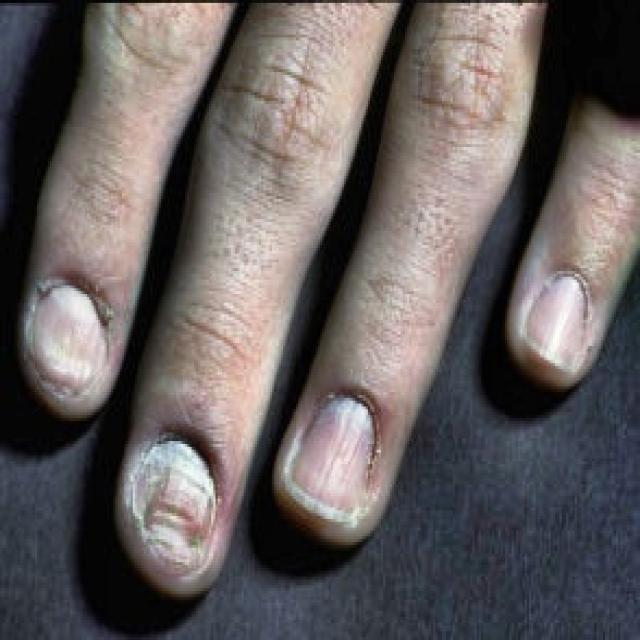Psoriasis-pictures-Lichen-Planus: (23, 263, 612, 573)
